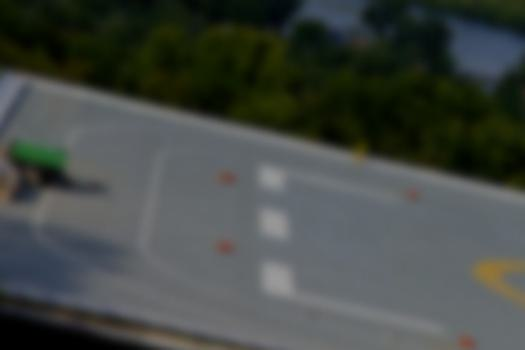Apron: (465, 232, 525, 326)
